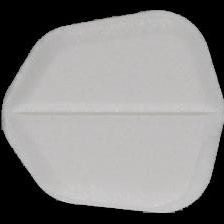24236-313: (0, 0, 224, 224)
